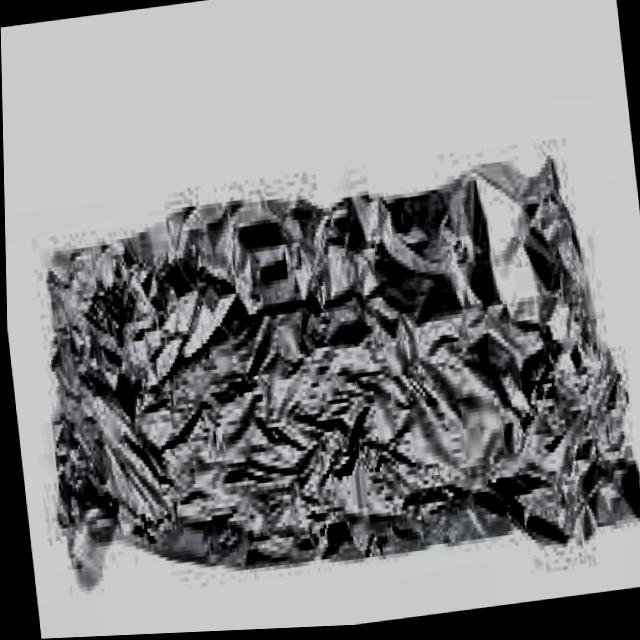Foil: (13, 131, 640, 640)
